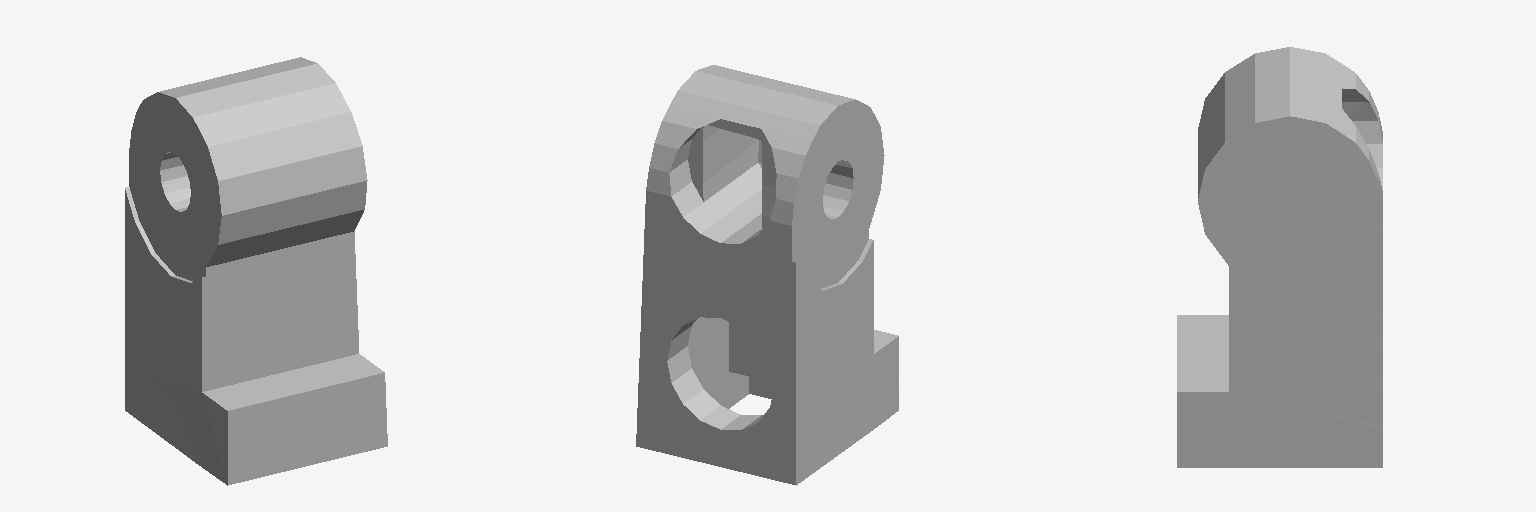
The model's file is lPie.obj.
The picture shows the model from 3 angles: view 1: azimuth 30°, elevation 25°; view 2: azimuth 150°, elevation 25°; view 3: azimuth 270°, elevation 25°; orthographic projection.
Visible parts, largest first — view 1: lPie1:pasted__pasted__lleg1pasted__pasted__legocharacter4pasted_; view 2: lPie1:pasted__pasted__lleg1pasted__pasted__legocharacter4pasted_; view 3: lPie1:pasted__pasted__lleg1pasted__pasted__legocharacter4pasted_.
Part boxes in pixels (bbox=[...]): lPie1:pasted__pasted__lleg1pasted__pasted__legocharacter4pasted_: bbox=[125, 57, 387, 485]; lPie1:pasted__pasted__lleg1pasted__pasted__legocharacter4pasted_: bbox=[636, 65, 898, 485]; lPie1:pasted__pasted__lleg1pasted__pasted__legocharacter4pasted_: bbox=[1177, 47, 1382, 467].
Bounding box in the file's own units: 1.11 × 2.26 × 1.22.